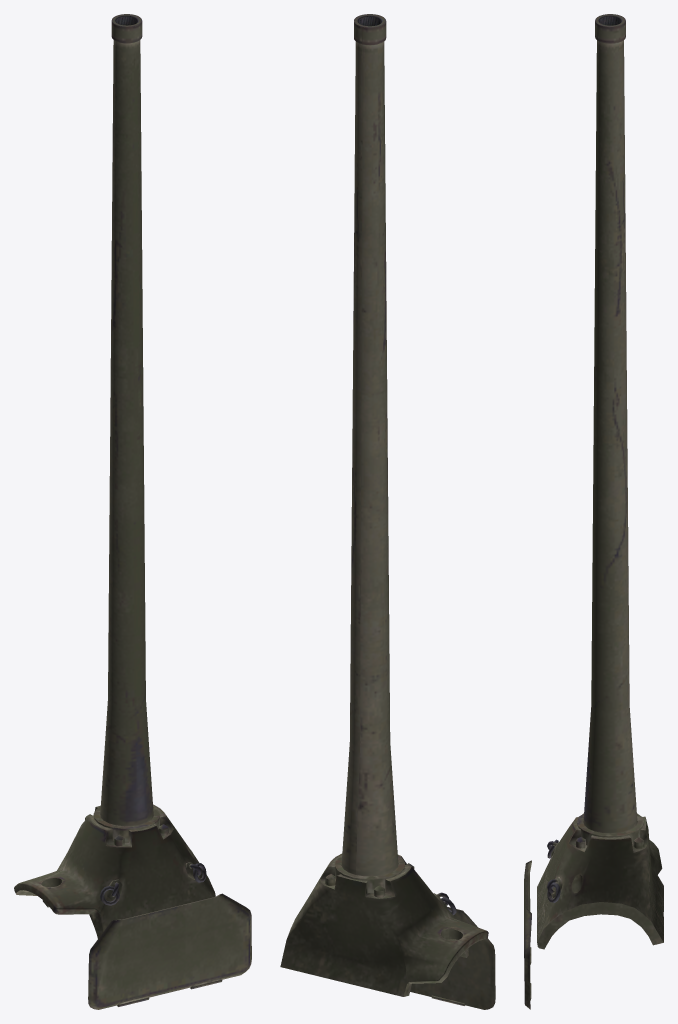
The model's file is Gun_05.glb.
The picture shows the model from 3 angles, left to right: view 1: azimuth 30°, elevation 25°; view 2: azimuth 150°, elevation 25°; view 3: azimuth 270°, elevation 25°; orthographic projection. The views are drawn at different scales.
Parts seen in each view (by area): view 1: set_0_group_0, set_0_group_1; view 2: set_0_group_0, set_0_group_1; view 3: set_0_group_0, set_0_group_1.
Boxes of the visible parts, box(x1,y1,x2,y2) form: set_0_group_0: box(14, 14, 215, 938); set_0_group_1: box(88, 893, 251, 1009); set_0_group_0: box(280, 14, 488, 996); set_0_group_1: box(410, 907, 495, 1009); set_0_group_0: box(537, 14, 663, 949); set_0_group_1: box(524, 860, 531, 1009).
Size of the model in its own units: 0.9289 by 4.73 by 0.629.
2 materials, 2 textured.
